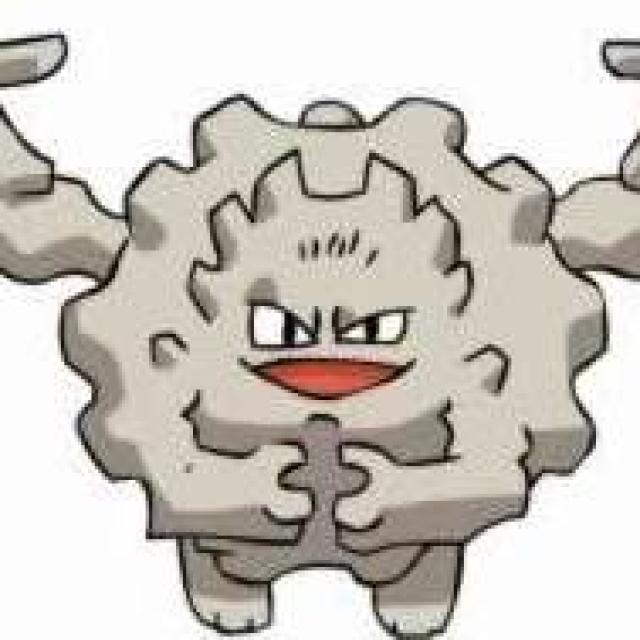Graveler: (49, 63, 630, 598)
